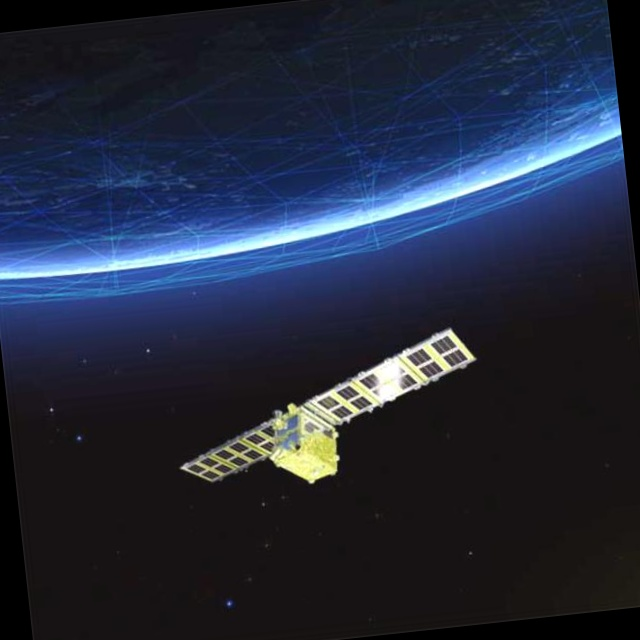medium_debris: (155, 287, 502, 544)
